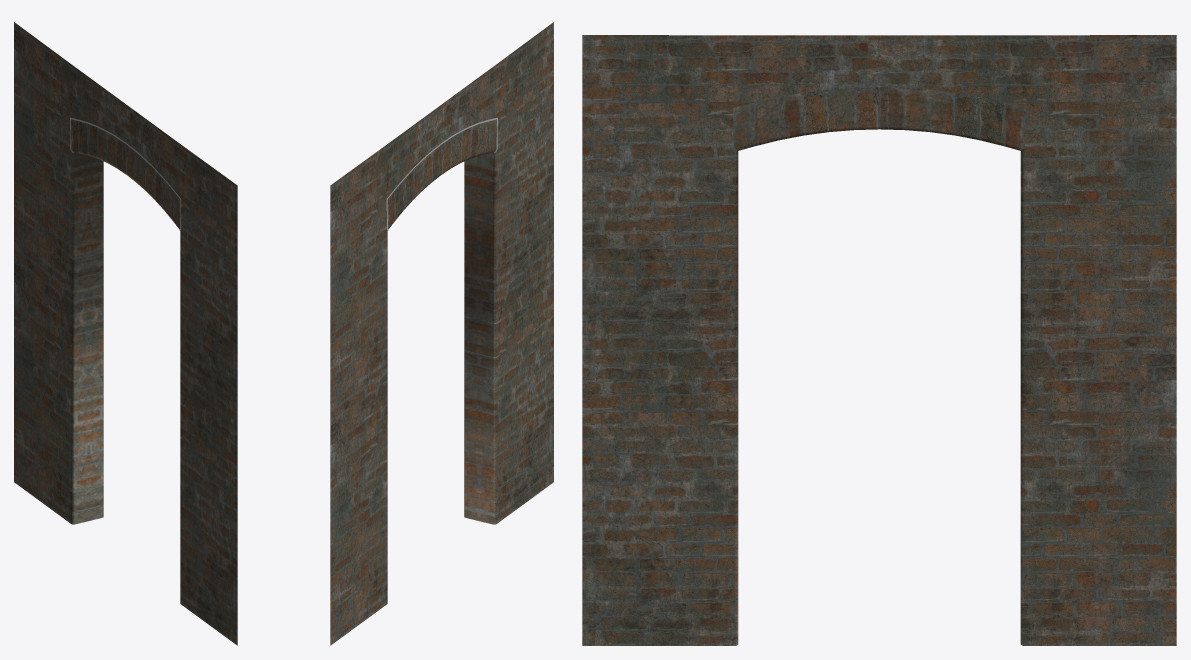
The model's file is SM_Door_Wall.gltf.
3 renders of one model, left to right at view 1: azimuth 30°, elevation 25°; view 2: azimuth 150°, elevation 25°; view 3: azimuth 270°, elevation 25°, orthographic. The views are drawn at different scales.
Visible parts, largest first — view 1: SM_Door_Wall_LOD0; view 2: SM_Door_Wall_LOD0; view 3: SM_Door_Wall_LOD0.
Boxes of the visible parts, x1,y1,x2,y2 form: SM_Door_Wall_LOD0: [14, 22, 237, 645]; SM_Door_Wall_LOD0: [330, 22, 553, 645]; SM_Door_Wall_LOD0: [582, 35, 1176, 645].
Size of what is drawn, in the model's own units: 0.3682 by 5 by 4.4.
